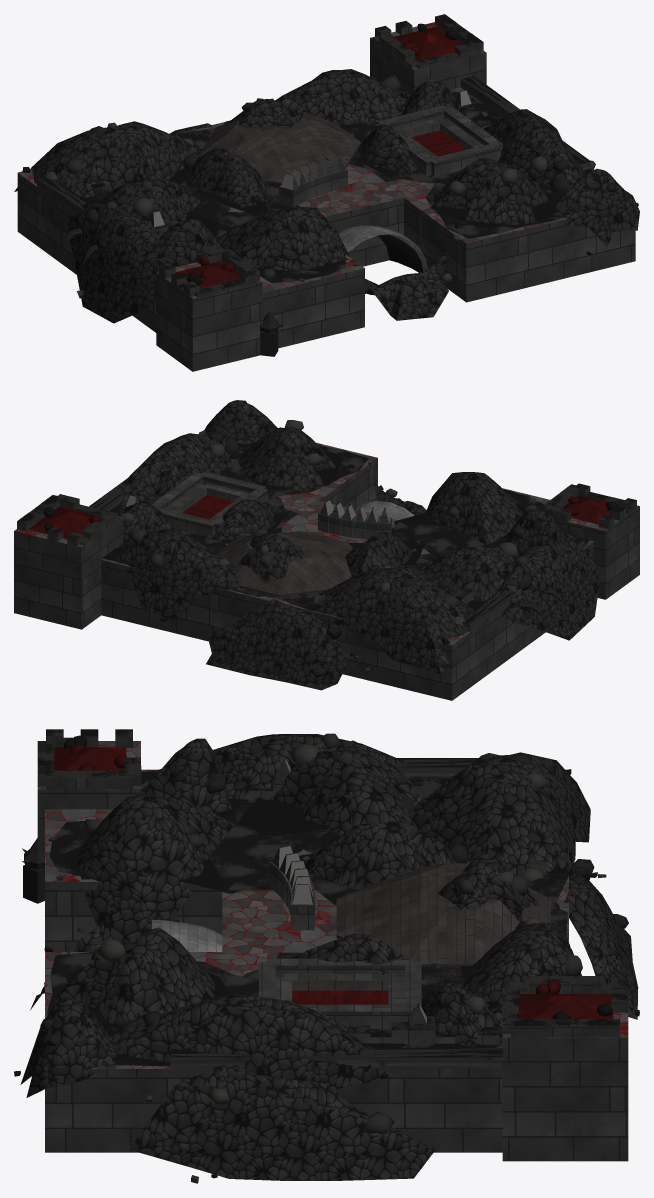
Rendered from Tarbuild03b.glb.
3 views of the same model, one above another, from view 1: azimuth 30°, elevation 25°; view 2: azimuth 150°, elevation 25°; view 3: azimuth 270°, elevation 25° (orthographic). The views are drawn at different scales.
Visible parts, largest first — view 1: Tarbuild03b; view 2: Tarbuild03b; view 3: Tarbuild03b.
Part boxes in pixels (x1=…): Tarbuild03b: x1=14, y1=14, x2=639, y2=371; Tarbuild03b: x1=14, y1=400, x2=639, y2=700; Tarbuild03b: x1=14, y1=729, x2=639, y2=1183.
Bounding box in the file's own units: 22.47 × 4.38 × 16.96.
Materials: 20 (10 with a texture image).
